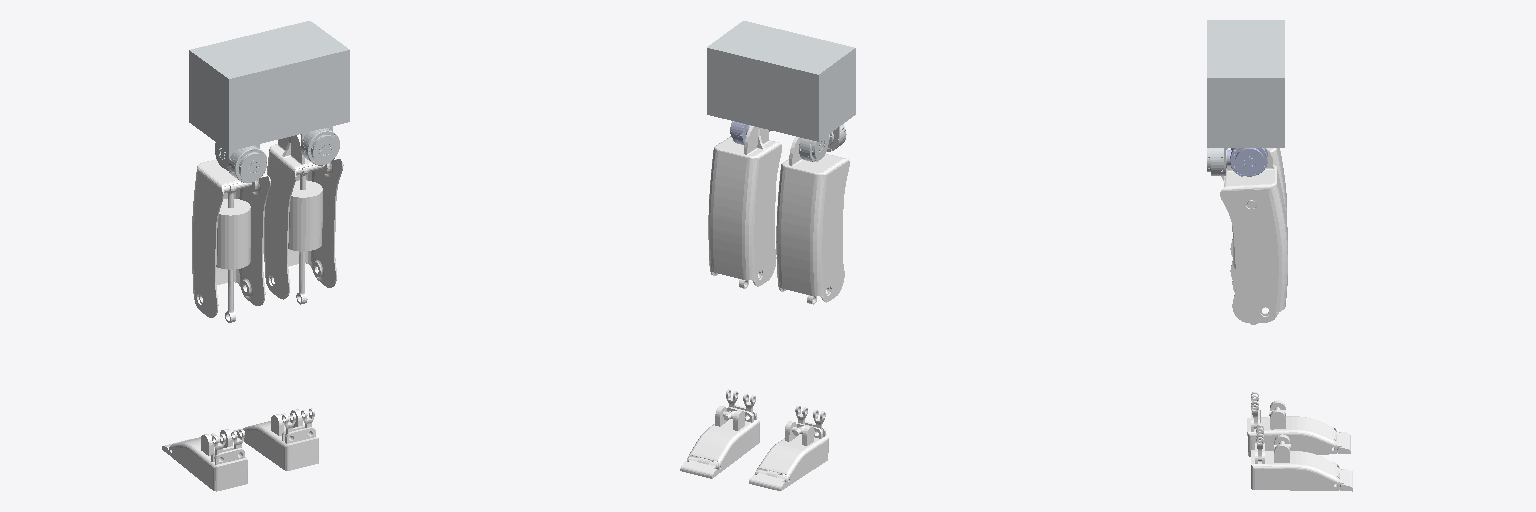
URDF robot description (human_robot):
<?xml version="1.0" encoding="utf-8"?>
<!-- This URDF was automatically created by SolidWorks to URDF Exporter! Originally created by [author] ([email redacted]) 
     Commit Version: 1.6.0-4-g7f85cfe  Build Version: 1.6.7995.38578
     For more information, please see http://wiki.ros.org/sw_urdf_exporter -->
<robot
  name="human_robot">
  <link
    name="trunk">
    <inertial>
      <origin
        xyz="3.08295690947631E-07 -0.000552921699544129 -0.00165282607801977"
        rpy="0 0 0" />
      <mass
        value="39.8378001832189" />
      <inertia
        ixx="0.262791957414695"
        ixy="5.11216876540594E-08"
        ixz="4.82273395557646E-08"
        iyy="0.533251238252311"
        iyz="-0.000123850246436667"
        izz="0.533255696056596" />
    </inertial>
    <visual>
      <origin
        xyz="0 0 0"
        rpy="0 0 0" />
      <geometry>
        <mesh
          filename="package://human_robot_urdf/meshes/trunk.STL" />
      </geometry>
      <material
        name="">
        <color
          rgba="0.898039215686275 0.917647058823529 0.929411764705882 1" />
      </material>
    </visual>
    <collision>
      <origin
        xyz="0 0 0"
        rpy="0 0 0" />
      <geometry>
        <mesh
          filename="package://human_robot_urdf/meshes/trunk.STL" />
      </geometry>
    </collision>
  </link>
  <link
    name="L_base_link">
    <inertial>
      <origin
        xyz="0.0013642 4.8965E-05 0.038654"
        rpy="0 0 0" />
      <mass
        value="0.17425" />
      <inertia
        ixx="0.00017541"
        ixy="-8.8971E-09"
        ixz="-3.4768E-06"
        iyy="8.3811E-05"
        iyz="1.5262E-07"
        izz="0.00012987" />
    </inertial>
    <visual>
      <origin
        xyz="0 0 0"
        rpy="0 0 0" />
      <geometry>
        <mesh
          filename="package://human_robot_urdf/meshes/L_base_link.STL" />
      </geometry>
      <material
        name="">
        <color
          rgba="0.89804 0.91765 0.92941 1" />
      </material>
    </visual>
    <collision>
      <origin
        xyz="0 0 0"
        rpy="0 0 0" />
      <geometry>
        <mesh
          filename="package://human_robot_urdf/meshes/L_base_link.STL" />
      </geometry>
    </collision>
  </link>
  <joint
    name="L_thigh_joint_1"
    type="continuous">
    <origin
      xyz="-0.105 -0.049 -0.16"
      rpy="-1.5708 0 0" />
    <parent
      link="trunk" />
    <child
      link="L_base_link" />
    <axis
      xyz="0 0 -1" />
  </joint>
  <link
    name="L_thigh">
    <inertial>
      <origin
        xyz="-0.21534 0.014468 -0.0015298"
        rpy="0 0 0" />
      <mass
        value="5.6846" />
      <inertia
        ixx="0.015972"
        ixy="0.0038154"
        ixz="0.0015518"
        iyy="0.053003"
        iyz="-0.0002728"
        izz="0.050594" />
    </inertial>
    <visual>
      <origin
        xyz="0 0 0"
        rpy="0 0 0" />
      <geometry>
        <mesh
          filename="package://human_robot_urdf/meshes/L_thigh.STL" />
      </geometry>
      <material
        name="">
        <color
          rgba="1 1 1 1" />
      </material>
    </visual>
    <collision>
      <origin
        xyz="0 0 0"
        rpy="0 0 0" />
      <geometry>
        <mesh
          filename="package://human_robot_urdf/meshes/L_thigh.STL" />
      </geometry>
    </collision>
  </link>
  <joint
    name="L_thigh_joint_2"
    type="continuous">
    <origin
      xyz="0 0 0.058"
      rpy="1.5708 0 -1.5708" />
    <parent
      link="L_base_link" />
    <child
      link="L_thigh" />
    <axis
      xyz="0 0 1" />
  </joint>
  <link
    name="L_calf">
    <inertial>
      <origin
        xyz="-0.20113 -0.013448 -0.00037607"
        rpy="0 0 0" />
      <mass
        value="3.224" />
      <inertia
        ixx="0.0045927"
        ixy="-2.4604E-05"
        ixz="0.00018143"
        iyy="0.035489"
        iyz="-8.4412E-05"
        izz="0.033315" />
    </inertial>
    <visual>
      <origin
        xyz="0 0 0"
        rpy="0 0 0" />
      <geometry>
        <mesh
          filename="package://human_robot_urdf/meshes/L_calf.STL" />
      </geometry>
      <material
        name="">
        <color
          rgba="1 1 1 1" />
      </material>
    </visual>
    <collision>
      <origin
        xyz="0 0 0"
        rpy="0 0 0" />
      <geometry>
        <mesh
          filename="package://human_robot_urdf/meshes/L_calf.STL" />
      </geometry>
    </collision>
  </link>
  <joint
    name="L_calf_joint"
    type="continuous">
    <origin
      xyz="-0.40686 0.035782 0"
      rpy="0 0 -0.087721" />
    <parent
      link="L_thigh" />
    <child
      link="L_calf" />
    <axis
      xyz="0 0 -1" />
  </joint>
  <link
    name="L_ankle">
    <inertial>
      <origin
        xyz="1.1102E-16 2.0159E-08 0.01392"
        rpy="0 0 0" />
      <mass
        value="0.017895" />
      <inertia
        ixx="6.5213E-06"
        ixy="-3.8913E-12"
        ixz="-6.1908E-12"
        iyy="1.6526E-06"
        iyz="-2.8703E-18"
        izz="5.3847E-06" />
    </inertial>
    <visual>
      <origin
        xyz="0 0 0"
        rpy="0 0 0" />
      <geometry>
        <mesh
          filename="package://human_robot_urdf/meshes/L_ankle.STL" />
      </geometry>
      <material
        name="">
        <color
          rgba="1 1 1 1" />
      </material>
    </visual>
    <collision>
      <origin
        xyz="0 0 0"
        rpy="0 0 0" />
      <geometry>
        <mesh
          filename="package://human_robot_urdf/meshes/L_ankle.STL" />
      </geometry>
    </collision>
  </link>
  <joint
    name="L_ankle_joint"
    type="continuous">
    <origin
      xyz="-0.41976 -0.014067 0"
      rpy="-1.5708 0 0.033499" />
    <parent
      link="L_calf" />
    <child
      link="L_ankle" />
    <axis
      xyz="0 0 1" />
  </joint>
  <link
    name="L_foot">
    <inertial>
      <origin
        xyz="-0.042839 0.0057082 1.5376E-07"
        rpy="0 0 0" />
      <mass
        value="0.89362" />
      <inertia
        ixx="0.0034957"
        ixy="0.0003374"
        ixz="2.8348E-09"
        iyy="0.0014575"
        iyz="-1.6731E-08"
        izz="0.003248" />
    </inertial>
    <visual>
      <origin
        xyz="0 0 0"
        rpy="0 0 0" />
      <geometry>
        <mesh
          filename="package://human_robot_urdf/meshes/L_foot.STL" />
      </geometry>
      <material
        name="">
        <color
          rgba="1 1 1 1" />
      </material>
    </visual>
    <collision>
      <origin
        xyz="0 0 0"
        rpy="0 0 0" />
      <geometry>
        <mesh
          filename="package://human_robot_urdf/meshes/L_foot.STL" />
      </geometry>
    </collision>
  </link>
  <joint
    name="L_foot_joint"
    type="continuous">
    <origin
      xyz="0 0 0.01392"
      rpy="1.5708 0 0" />
    <parent
      link="L_ankle" />
    <child
      link="L_foot" />
    <axis
      xyz="0 0 1" />
  </joint>
  <link
    name="L_toe">
    <inertial>
      <origin
        xyz="-0.016145 0.0039623 1.0131E-15"
        rpy="0 0 0" />
      <mass
        value="0.24246" />
      <inertia
        ixx="0.00019294"
        ixy="1.6366E-05"
        ixz="4.988E-20"
        iyy="0.00023692"
        iyz="1.8714E-20"
        izz="7.0325E-05" />
    </inertial>
    <visual>
      <origin
        xyz="0 0 0"
        rpy="0 0 0" />
      <geometry>
        <mesh
          filename="package://human_robot_urdf/meshes/L_toe.STL" />
      </geometry>
      <material
        name="">
        <color
          rgba="1 1 1 1" />
      </material>
    </visual>
    <collision>
      <origin
        xyz="0 0 0"
        rpy="0 0 0" />
      <geometry>
        <mesh
          filename="package://human_robot_urdf/meshes/L_toe.STL" />
      </geometry>
    </collision>
  </link>
  <joint
    name="L_toe_joint"
    type="continuous">
    <origin
      xyz="-0.086753 0.13892 0"
      rpy="0 0 -1.0126" />
    <parent
      link="L_foot" />
    <child
      link="L_toe" />
    <axis
      xyz="0 0 1" />
  </joint>
  <link
    name="R_base_link">
    <inertial>
      <origin
        xyz="-0.0013642 -4.8965E-05 0.038654"
        rpy="0 0 0" />
      <mass
        value="0.17425" />
      <inertia
        ixx="0.00017541"
        ixy="-8.8971E-09"
        ixz="3.4768E-06"
        iyy="8.3811E-05"
        iyz="-1.5262E-07"
        izz="0.00012987" />
    </inertial>
    <visual>
      <origin
        xyz="0 0 0"
        rpy="0 0 0" />
      <geometry>
        <mesh
          filename="package://human_robot_urdf/meshes/R_base_link.STL" />
      </geometry>
      <material
        name="">
        <color
          rgba="0.79216 0.81961 0.93333 1" />
      </material>
    </visual>
    <collision>
      <origin
        xyz="0 0 0"
        rpy="0 0 0" />
      <geometry>
        <mesh
          filename="package://human_robot_urdf/meshes/R_base_link.STL" />
      </geometry>
    </collision>
  </link>
  <joint
    name="R_thigh_joint_1"
    type="continuous">
    <origin
      xyz="0.105 -0.049 -0.16"
      rpy="-1.5708 0 0" />
    <parent
      link="trunk" />
    <child
      link="R_base_link" />
    <axis
      xyz="0 0 -1" />
  </joint>
  <link
    name="R_thigh">
    <inertial>
      <origin
        xyz="-0.21516 -0.017193 -0.0015777"
        rpy="0 0 0" />
      <mass
        value="5.6842" />
      <inertia
        ixx="0.016072"
        ixy="-0.0042775"
        ixz="0.0015529"
        iyy="0.052889"
        iyz="0.00029044"
        izz="0.050583" />
    </inertial>
    <visual>
      <origin
        xyz="0 0 0"
        rpy="0 0 0" />
      <geometry>
        <mesh
          filename="package://human_robot_urdf/meshes/R_thigh.STL" />
      </geometry>
      <material
        name="">
        <color
          rgba="1 1 1 1" />
      </material>
    </visual>
    <collision>
      <origin
        xyz="0 0 0"
        rpy="0 0 0" />
      <geometry>
        <mesh
          filename="package://human_robot_urdf/meshes/R_thigh.STL" />
      </geometry>
    </collision>
  </link>
  <joint
    name="R_thigh_joint_2"
    type="continuous">
    <origin
      xyz="0 0 0.058"
      rpy="-1.5708 0 -1.5708" />
    <parent
      link="R_base_link" />
    <child
      link="R_thigh" />
    <axis
      xyz="0 0 1" />
  </joint>
  <link
    name="R_calf">
    <inertial>
      <origin
        xyz="-0.20098 0.012512 0.00037607"
        rpy="0 0 0" />
      <mass
        value="3.224" />
      <inertia
        ixx="0.0045891"
        ixy="-6.7287E-05"
        ixz="-0.00018122"
        iyy="0.035492"
        iyz="-8.4853E-05"
        izz="0.033315" />
    </inertial>
    <visual>
      <origin
        xyz="0 0 0"
        rpy="0 0 0" />
      <geometry>
        <mesh
          filename="package://human_robot_urdf/meshes/R_calf.STL" />
      </geometry>
      <material
        name="">
        <color
          rgba="1 1 1 1" />
      </material>
    </visual>
    <collision>
      <origin
        xyz="0 0 0"
        rpy="0 0 0" />
      <geometry>
        <mesh
          filename="package://human_robot_urdf/meshes/R_calf.STL" />
      </geometry>
    </collision>
  </link>
  <joint
    name="R_calf_joint"
    type="continuous">
    <origin
      xyz="-0.40638 -0.040875 0"
      rpy="0 0 0.10025" />
    <parent
      link="R_thigh" />
    <child
      link="R_calf" />
    <axis
      xyz="0 0 1" />
  </joint>
  <link
    name="R_ankle">
    <inertial>
      <origin
        xyz="2.2204E-16 -2.0159E-08 0.014"
        rpy="0 0 0" />
      <mass
        value="0.017895" />
      <inertia
        ixx="6.5213E-06"
        ixy="-3.8913E-12"
        ixz="6.1908E-12"
        iyy="1.6526E-06"
        iyz="2.8671E-18"
        izz="5.3847E-06" />
    </inertial>
    <visual>
      <origin
        xyz="0 0 0"
        rpy="0 0 0" />
      <geometry>
        <mesh
          filename="package://human_robot_urdf/meshes/R_ankle.STL" />
      </geometry>
      <material
        name="">
        <color
          rgba="1 1 1 1" />
      </material>
    </visual>
    <collision>
      <origin
        xyz="0 0 0"
        rpy="0 0 0" />
      <geometry>
        <mesh
          filename="package://human_robot_urdf/meshes/R_ankle.STL" />
      </geometry>
    </collision>
  </link>
  <joint
    name="R_ankle_joint"
    type="continuous">
    <origin
      xyz="-0.4198 0.013047 0"
      rpy="1.5708 0 -0.031068" />
    <parent
      link="R_calf" />
    <child
      link="R_ankle" />
    <axis
      xyz="0 0 1" />
  </joint>
  <link
    name="R_foot">
    <inertial>
      <origin
        xyz="-0.043134 -0.0026799 -1.6288E-07"
        rpy="0 0 0" />
      <mass
        value="0.89362" />
      <inertia
        ixx="0.0034383"
        ixy="-0.00047712"
        ixz="-3.8829E-09"
        iyy="0.0015149"
        iyz="-1.6421E-08"
        izz="0.003248" />
    </inertial>
    <visual>
      <origin
        xyz="0 0 0"
        rpy="0 0 0" />
      <geometry>
        <mesh
          filename="package://human_robot_urdf/meshes/R_foot.STL" />
      </geometry>
      <material
        name="">
        <color
          rgba="1 1 1 1" />
      </material>
    </visual>
    <collision>
      <origin
        xyz="0 0 0"
        rpy="0 0 0" />
      <geometry>
        <mesh
          filename="package://human_robot_urdf/meshes/R_foot.STL" />
      </geometry>
    </collision>
  </link>
  <joint
    name="R_foot_joint"
    type="continuous">
    <origin
      xyz="0 0 0.014"
      rpy="-1.5708 0 0" />
    <parent
      link="R_ankle" />
    <child
      link="R_foot" />
    <axis
      xyz="0 0 1" />
  </joint>
  <link
    name="R_toe">
    <inertial>
      <origin
        xyz="-0.016145 -0.0039623 -2.7756E-17"
        rpy="0 0 0" />
      <mass
        value="0.24246" />
      <inertia
        ixx="0.00019294"
        ixy="-1.6366E-05"
        ixz="2.4092E-19"
        iyy="0.00023692"
        iyz="-1.003E-19"
        izz="7.0325E-05" />
    </inertial>
    <visual>
      <origin
        xyz="0 0 0"
        rpy="0 0 0" />
      <geometry>
        <mesh
          filename="package://human_robot_urdf/meshes/R_toe.STL" />
      </geometry>
      <material
        name="">
        <color
          rgba="1 1 1 1" />
      </material>
    </visual>
    <collision>
      <origin
        xyz="0 0 0"
        rpy="0 0 0" />
      <geometry>
        <mesh
          filename="package://human_robot_urdf/meshes/R_toe.STL" />
      </geometry>
    </collision>
  </link>
  <joint
    name="R_toe_joint"
    type="continuous">
    <origin
      xyz="-0.096313 -0.13247 0"
      rpy="0 0 0.94215" />
    <parent
      link="R_foot" />
    <child
      link="R_toe" />
    <axis
      xyz="0 0 -1" />
  </joint>
</robot>

--- Facts derived from the render (not from the file) ---
The picture shows the robot from 3 angles, left to right: view 1: azimuth 30°, elevation 25°; view 2: azimuth 150°, elevation 25°; view 3: azimuth 270°, elevation 25°; orthographic projection.
Robot: human_robot — 13 links, 12 joints (12 continuous); root link trunk; default pose: every joint at zero.
Visible links, largest first — view 1: trunk, R_thigh, L_thigh, L_foot, R_foot; view 2: trunk, R_thigh, L_thigh, R_foot, L_foot, R_toe, L_base_link, L_toe; view 3: trunk, R_thigh, R_foot, L_foot, R_base_link.
Boxes of the visible links, x1=… form: trunk: x1=189, y1=21, x2=349, y2=182; R_thigh: x1=264, y1=134, x2=343, y2=304; L_thigh: x1=192, y1=159, x2=270, y2=322; L_foot: x1=169, y1=429, x2=247, y2=491; R_foot: x1=243, y1=408, x2=318, y2=470; trunk: x1=707, y1=21, x2=855, y2=151; R_thigh: x1=708, y1=126, x2=781, y2=288; L_thigh: x1=776, y1=137, x2=849, y2=304; R_foot: x1=687, y1=389, x2=759, y2=472; L_foot: x1=755, y1=406, x2=828, y2=486; R_toe: x1=680, y1=457, x2=720, y2=478; L_base_link: x1=799, y1=134, x2=829, y2=161; L_toe: x1=749, y1=470, x2=788, y2=490; trunk: x1=1207, y1=20, x2=1284, y2=175; R_thigh: x1=1220, y1=148, x2=1287, y2=324; R_foot: x1=1251, y1=425, x2=1339, y2=490; L_foot: x1=1247, y1=392, x2=1336, y2=456; R_base_link: x1=1227, y1=148, x2=1267, y2=176.
Size in the robot's own frame: 0.35 by 0.3784 by 1.19 metres.
11 mesh visuals loaded from 13 distinct referenced files (11 binary STL); not drawn: 2 (reference not matched to a file when rendering).